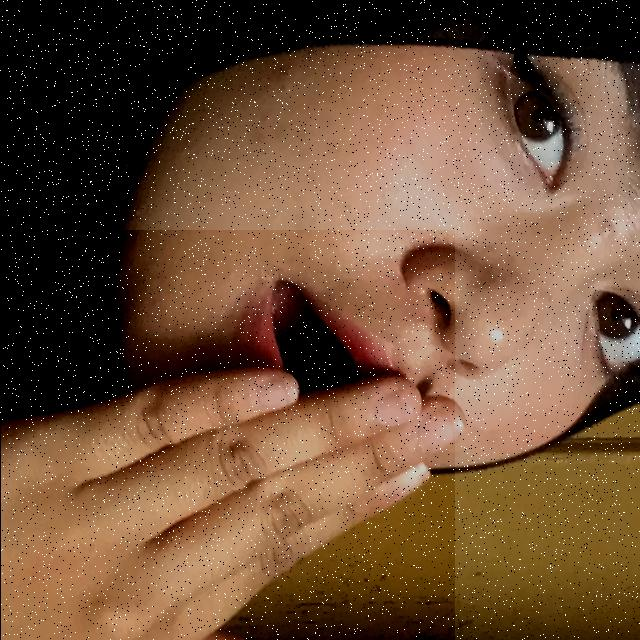ngantuk: (0, 230, 454, 640)
